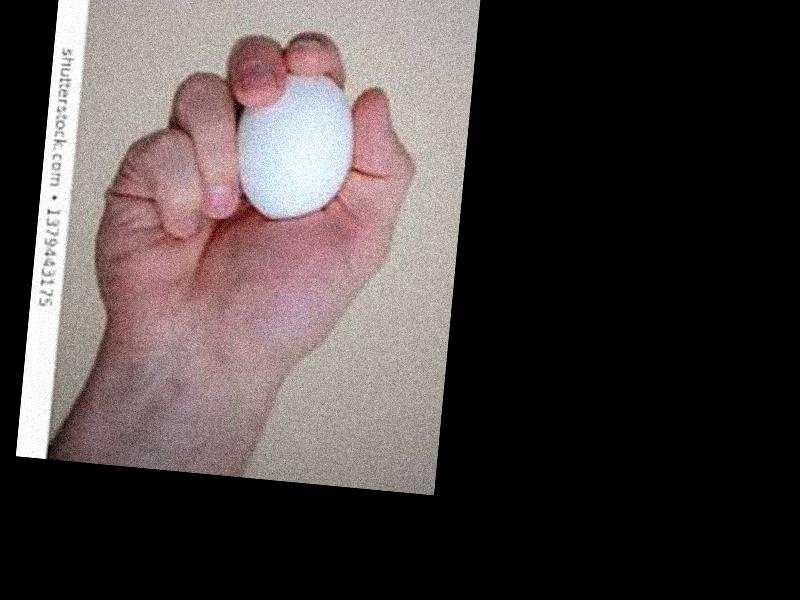Eggs: (230, 68, 359, 228)
